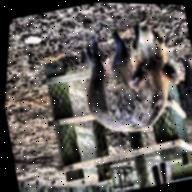boar: (64, 9, 192, 144)
